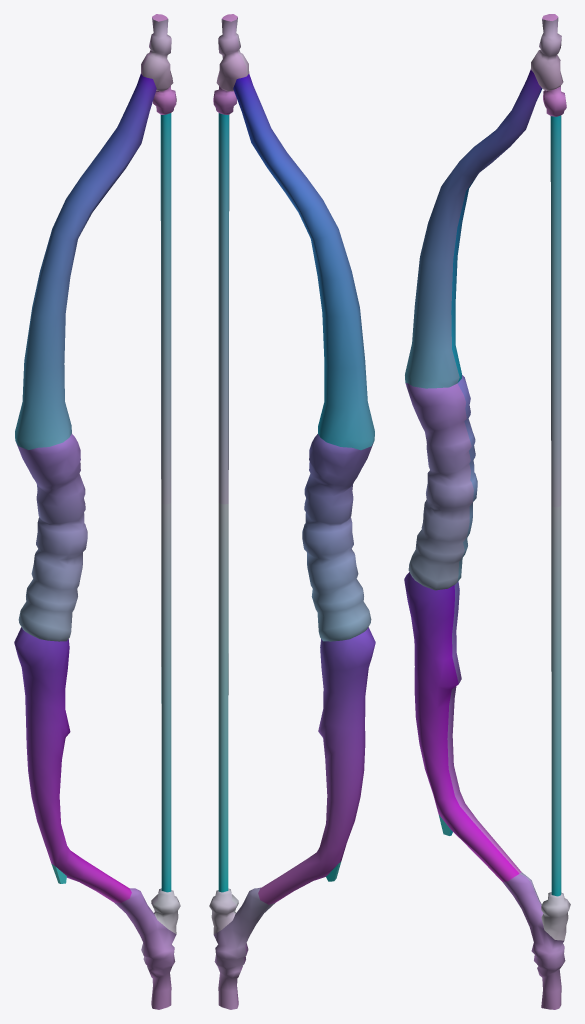
The picture shows the model from 3 angles, left to right: view 1: azimuth 30°, elevation 25°; view 2: azimuth 150°, elevation 25°; view 3: azimuth 330°, elevation 25°; orthographic projection.
Visible parts, largest first — view 1: SM_Shortbow_Yew_2H_01_LOD0; view 2: SM_Shortbow_Yew_2H_01_LOD0; view 3: SM_Shortbow_Yew_2H_01_LOD0.
Part boxes in pixels (bbox=[...]): SM_Shortbow_Yew_2H_01_LOD0: bbox=[14, 14, 180, 1009]; SM_Shortbow_Yew_2H_01_LOD0: bbox=[209, 14, 375, 1009]; SM_Shortbow_Yew_2H_01_LOD0: bbox=[404, 14, 570, 1009].
Bounding box in the file's own units: 0.238 × 1.39 × 0.0811.
